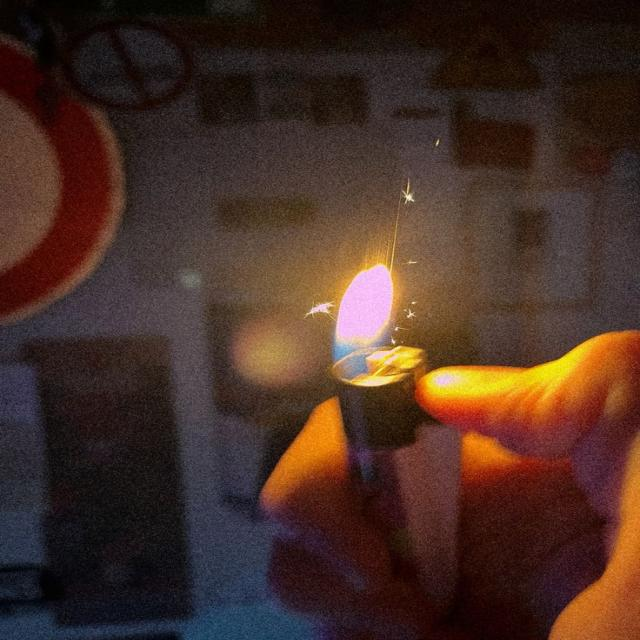fire: (332, 261, 396, 375)
